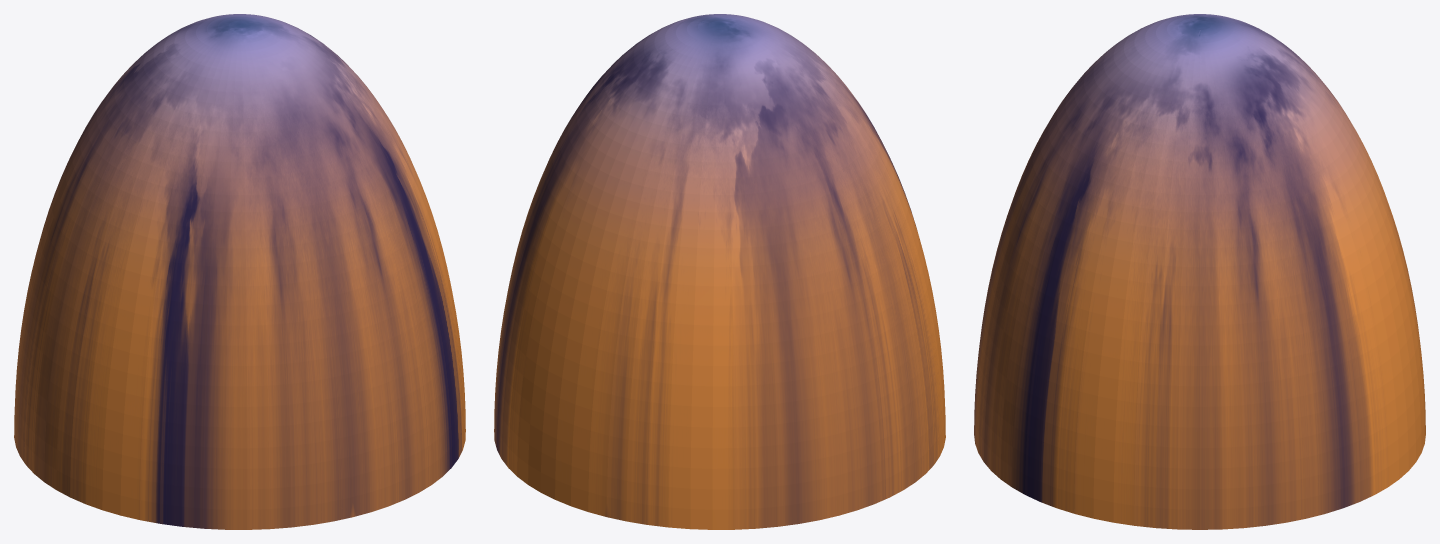
The model's file is dome4.obj.
3 views of the same model, side by side, from view 1: azimuth 30°, elevation 25°; view 2: azimuth 150°, elevation 25°; view 3: azimuth 270°, elevation 25° (orthographic).
Parts seen in each view (by area): view 1: Mesh_dome3; view 2: Mesh_dome3; view 3: Mesh_dome3.
Part boxes in pixels (x1,y1,x2,y2): Mesh_dome3: (14, 14, 465, 529); Mesh_dome3: (494, 14, 945, 529); Mesh_dome3: (974, 14, 1425, 529).
Size of the model in its own units: 1 by 1 by 1.
